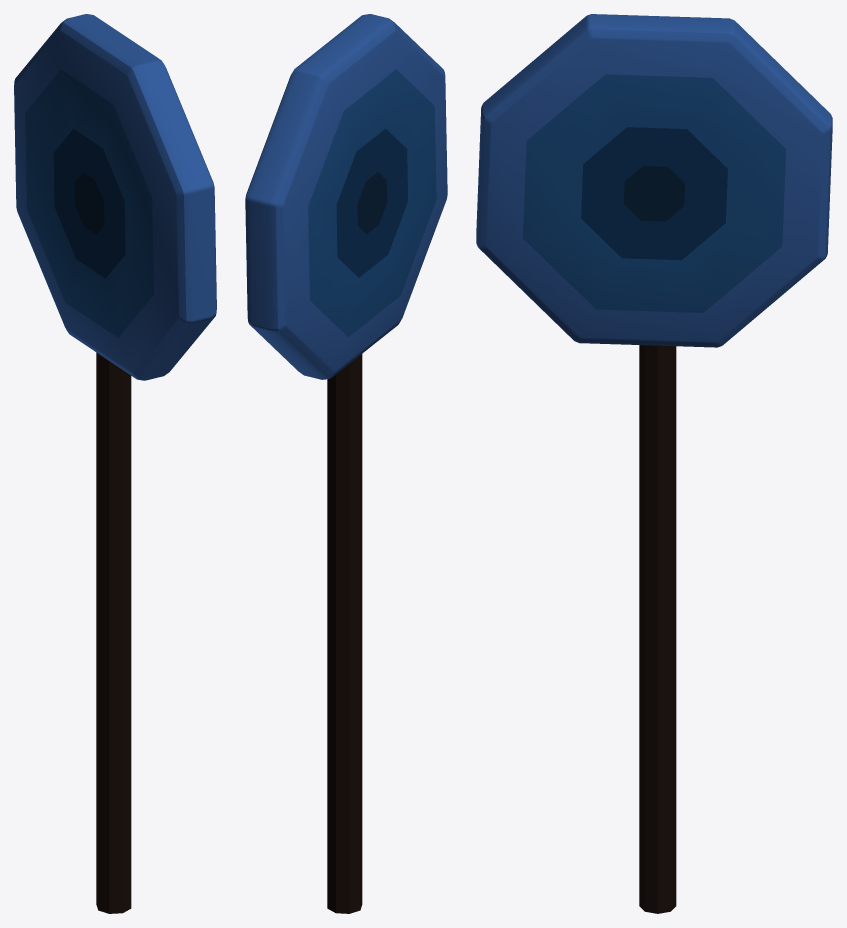
File: SM_Lolly_Blue.fbx
3 views of the same model, side by side, from view 1: azimuth 30°, elevation 25°; view 2: azimuth 150°, elevation 25°; view 3: azimuth 270°, elevation 25° (orthographic). The views are drawn at different scales.
Visible parts, largest first — view 1: SM_Lolly_Blue; view 2: SM_Lolly_Blue; view 3: SM_Lolly_Blue.
Boxes of the visible parts, x1,y1,x2,y2 form: SM_Lolly_Blue: (14, 14, 216, 913); SM_Lolly_Blue: (245, 14, 447, 913); SM_Lolly_Blue: (476, 14, 832, 913).
Bounding box in the file's own units: 0.6843 × 10.95 × 3.99.
